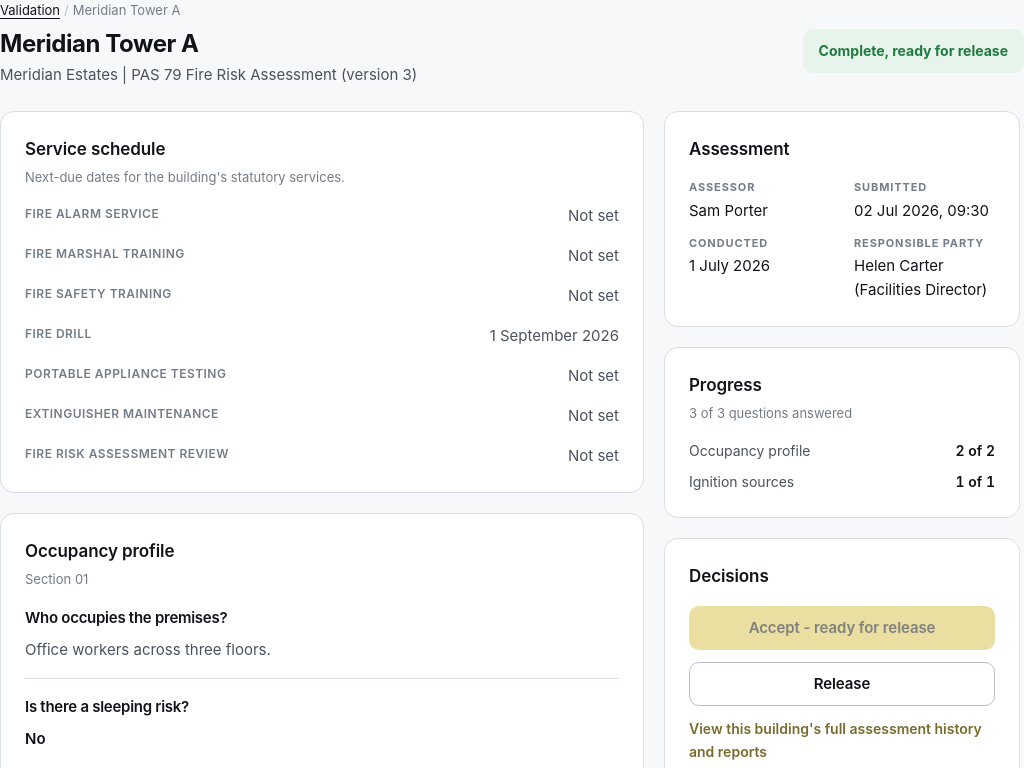
Test: Flagging and decisions › releases only after the confirm step and surfaces the actionsCreated count
This screenshot has width=1024, height=768.
Expected: the button "Accept - ready for release" is disabled, [689,606,995,650]
Click the button "Release" at (842, 684), box [689,662,995,706]
(page scrolled)
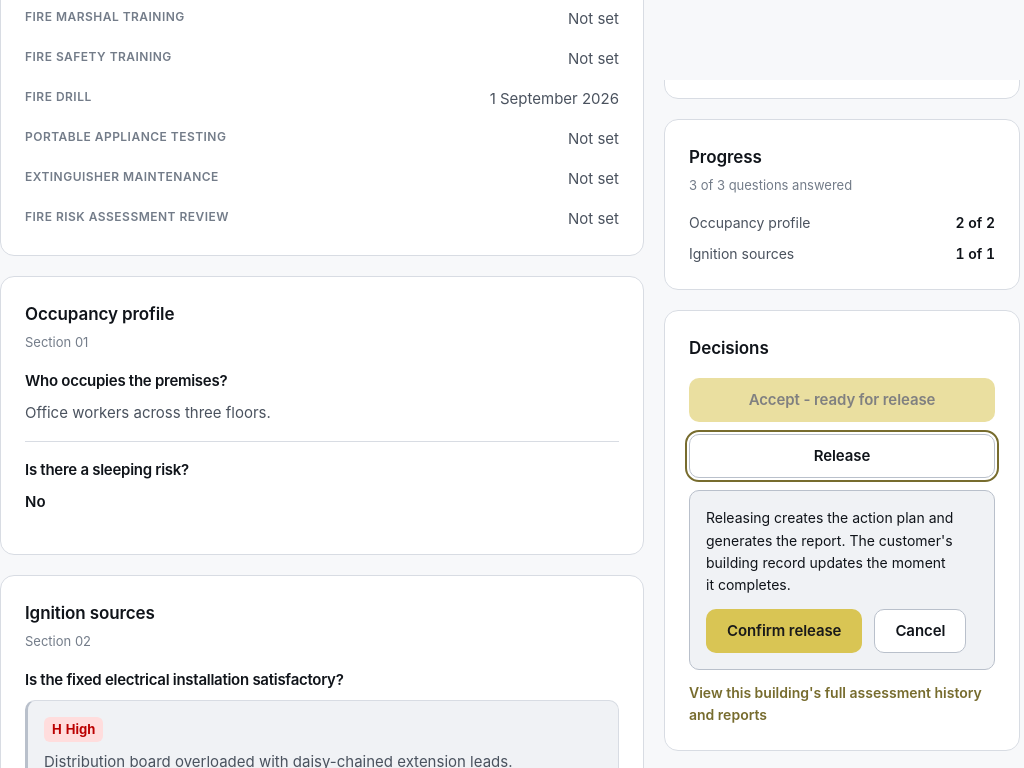
Expected: the text "Releasing creates the action plan and generates the report." is shown, [706,509,953,594]
Click the button "Confirm release" at (784, 631), box [706,609,862,653]
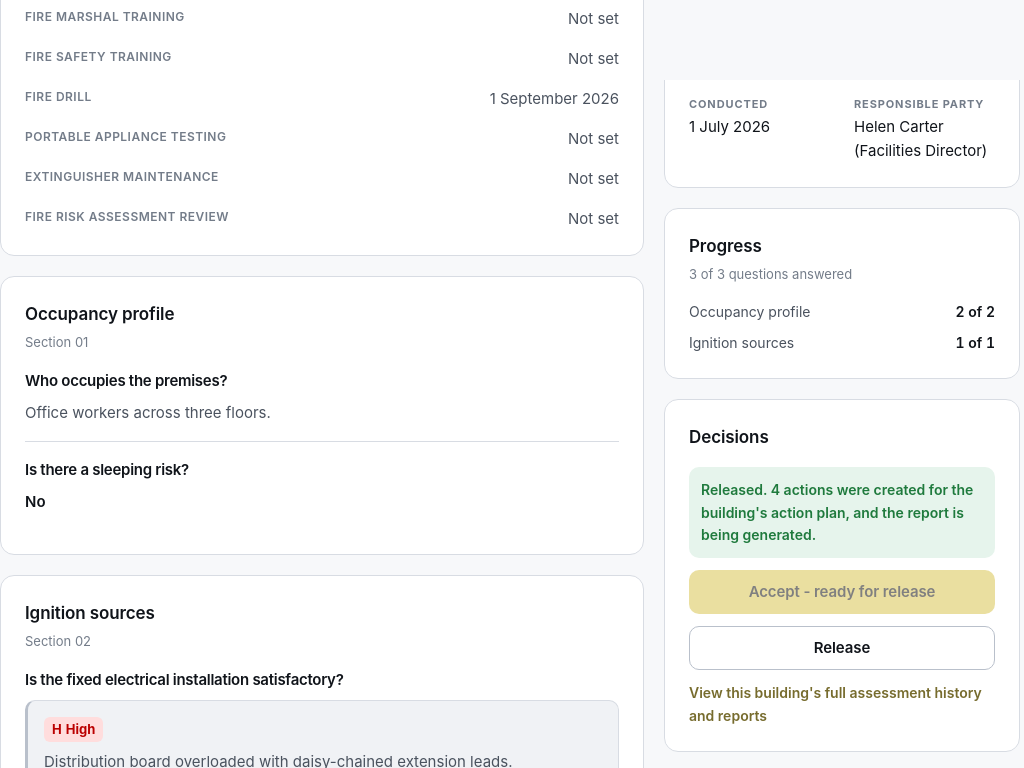
Expected: the text "4 actions were created for the building's action plan" is shown, [701,481,973,543]
